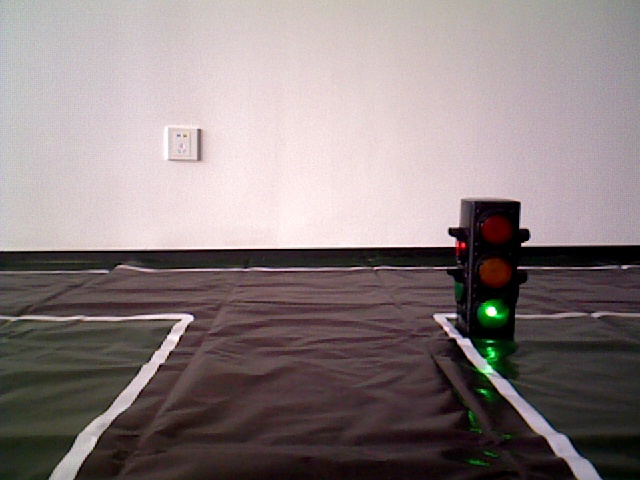green: (460, 201, 512, 336)
